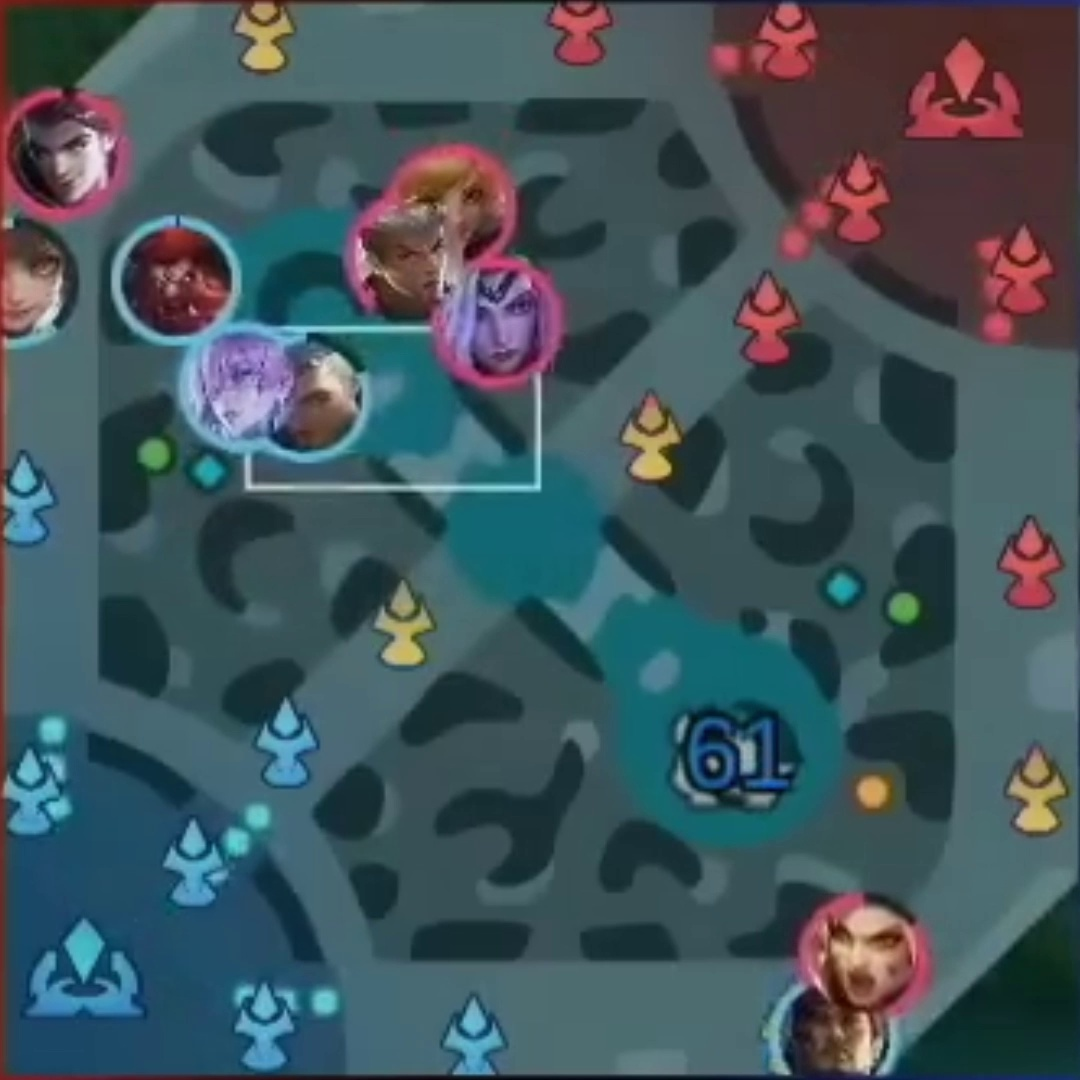Chou: (370, 211, 440, 307)
Claude: (20, 106, 104, 200)
Fanny: (434, 157, 497, 252)
Fredrinn: (290, 353, 349, 446)
Lapu-Lapu: (799, 1001, 879, 1078)
Masha: (825, 907, 906, 1002)
Minotaur: (136, 236, 218, 328)
Novaria: (192, 338, 285, 428)
Valentina: (461, 273, 533, 370)
Wanwan: (4, 225, 57, 331)
